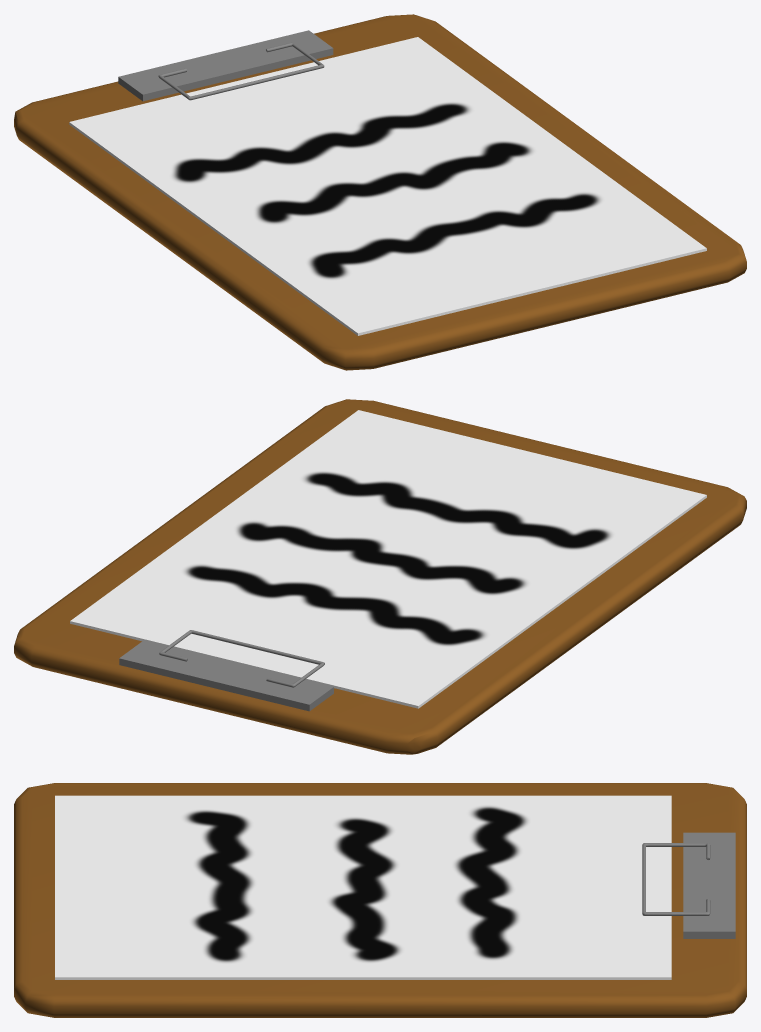
File: NoteClipboard.fbx
3 renders of one model, top to bottom at view 1: azimuth 30°, elevation 25°; view 2: azimuth 150°, elevation 25°; view 3: azimuth 270°, elevation 25°, orthographic. The views are drawn at different scales.
Parts seen in each view (by area): view 1: Clipboard; view 2: Clipboard; view 3: Clipboard.
Part boxes in pixels (left/top/right/bottom): Clipboard: left=14, top=14, right=746, bottom=370; Clipboard: left=14, top=399, right=746, bottom=754; Clipboard: left=14, top=783, right=746, bottom=1017.
Size of the model in its own units: 21 by 1.52 by 29.7.
3 materials, 1 textured.
